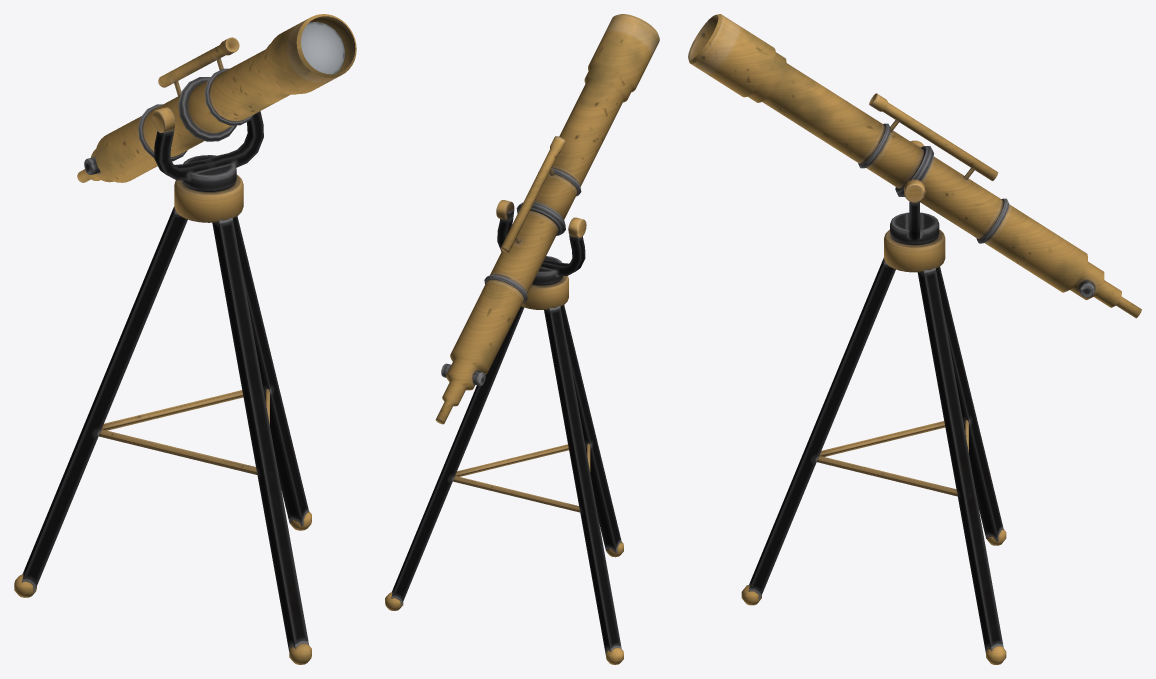
Rendered from Telescope.fbx.
3 renders of one model, left to right at view 1: azimuth 30°, elevation 25°; view 2: azimuth 150°, elevation 25°; view 3: azimuth 270°, elevation 25°, orthographic. The views are drawn at different scales.
Visible parts, largest first — view 1: Telescope_Main, Telescope_Glass; view 2: Telescope_Main; view 3: Telescope_Main.
Part boxes in pixels (box(x1,y1,x2,y2)): Telescope_Main: box(14, 14, 356, 664); Telescope_Glass: box(301, 22, 344, 74); Telescope_Main: box(385, 14, 659, 664); Telescope_Main: box(688, 14, 1141, 664).
Bounding box in the file's own units: 196 × 422 × 295.
